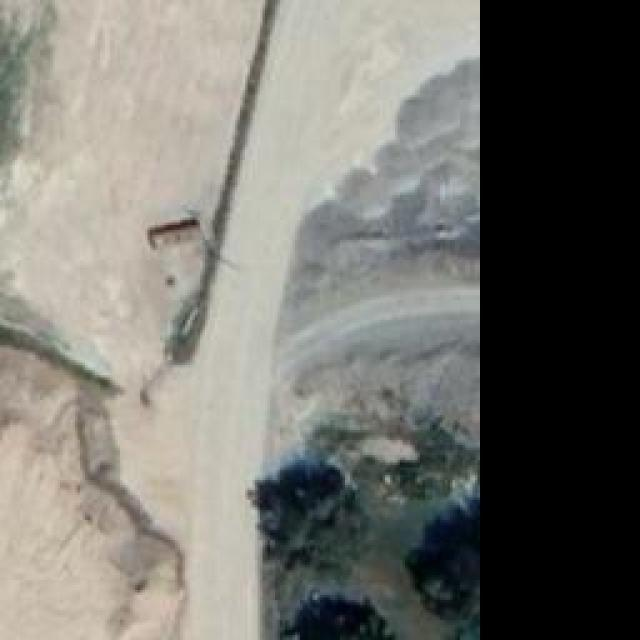Tree: (248, 460, 371, 573), (285, 600, 395, 640)
